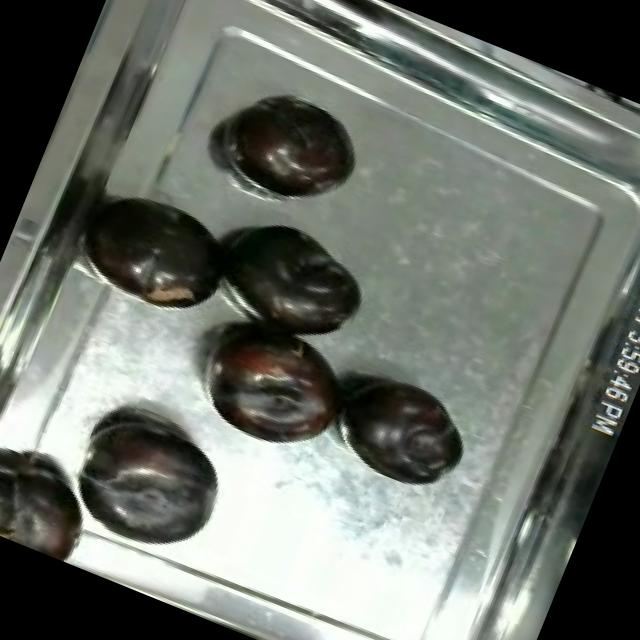Fruit: (176, 300, 366, 470), (58, 394, 244, 562), (197, 198, 383, 358), (65, 175, 248, 335), (212, 76, 374, 221), (326, 359, 482, 500), (0, 423, 110, 567)
